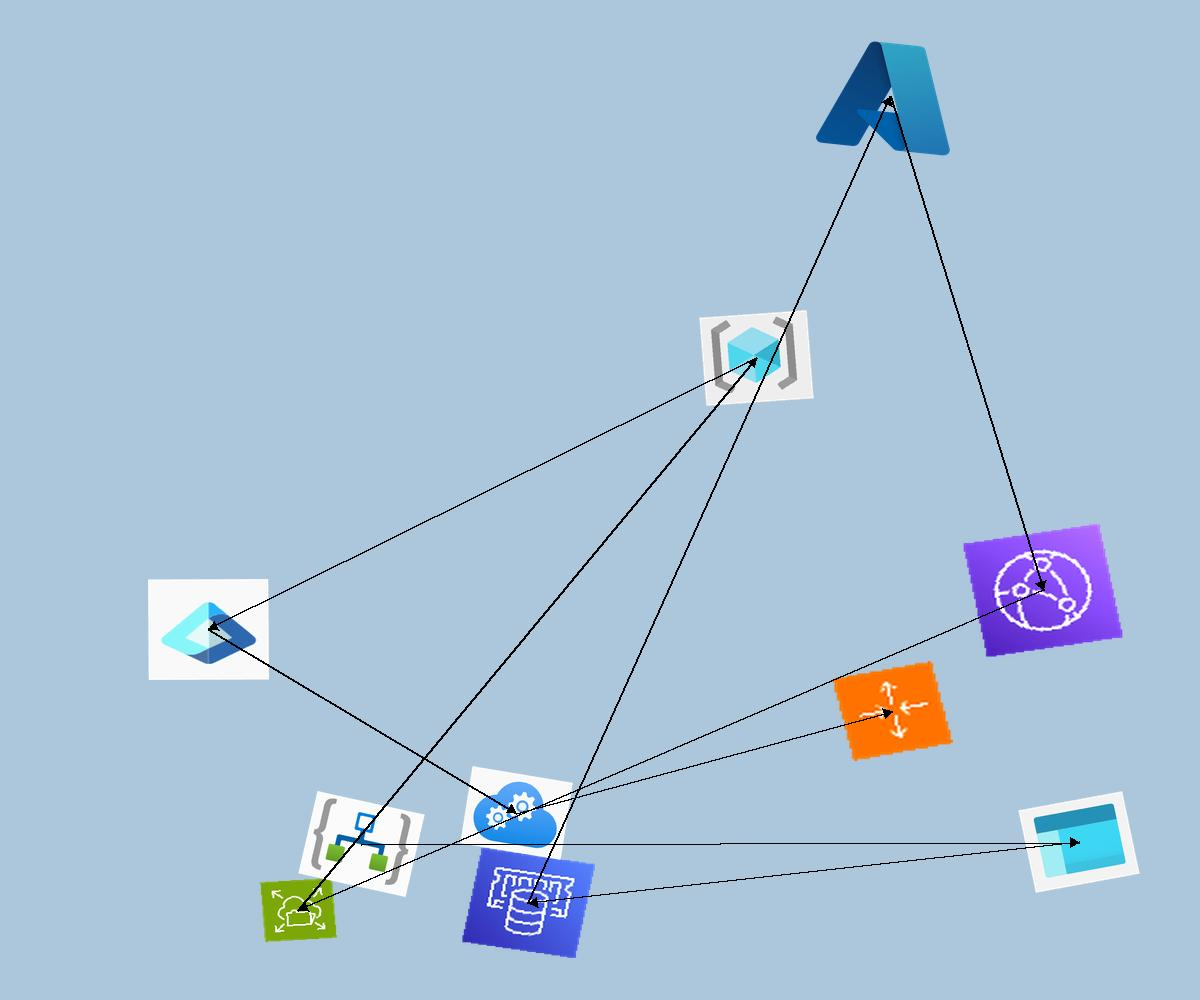AWS-CloudFront: (962, 523, 1124, 658)
AWS-EFS: (260, 878, 337, 942)
AWS-ElastiCache: (461, 847, 596, 959)
AWS-Scaling-group: (832, 661, 953, 761)
Azure_cloud_services: (460, 766, 573, 860)
Azure_integration-204-Logic-Apps: (298, 791, 425, 897)
Azure_management-portal: (1018, 791, 1140, 893)
Azure_microsoft_entra: (148, 579, 269, 680)
Azure_resource_group: (699, 310, 814, 406)
Azure_services: (808, 28, 972, 165)
